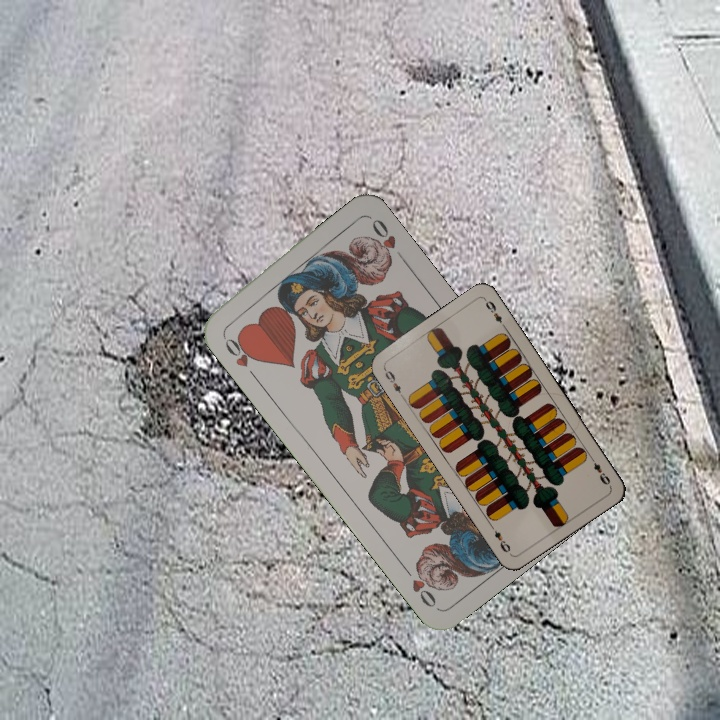E9: (380, 364, 407, 400), (586, 453, 613, 488)
HO: (218, 330, 261, 381)
